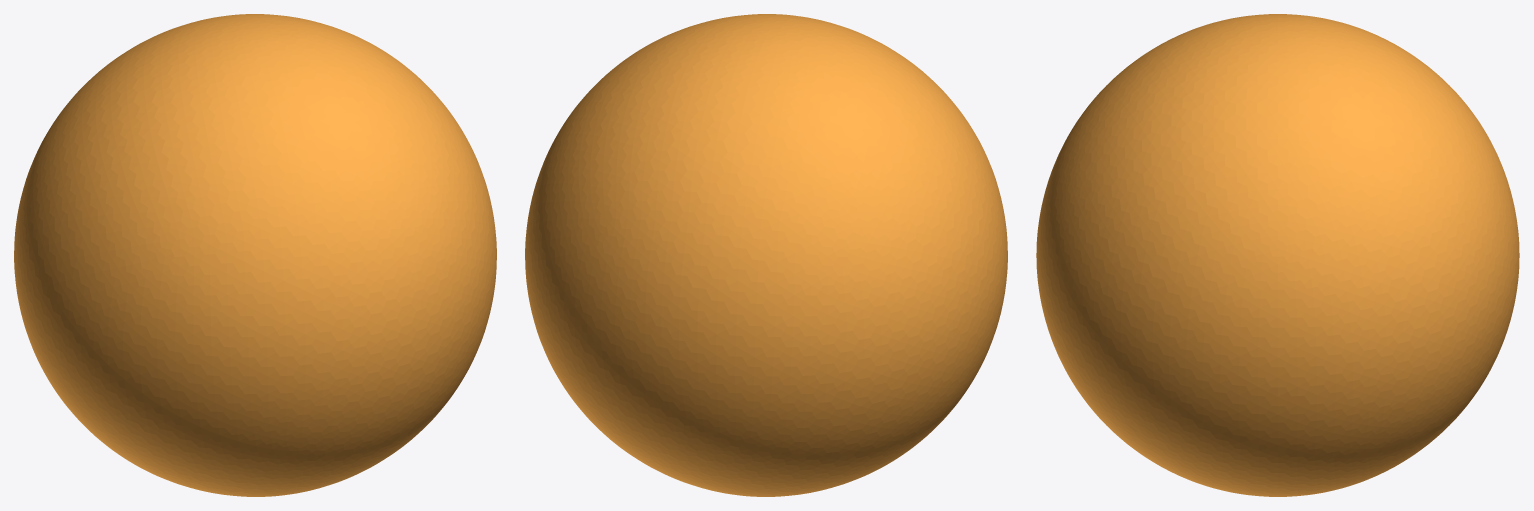
Rendered from the_sun.glb.
3 renders of one model, left to right at view 1: azimuth 30°, elevation 25°; view 2: azimuth 150°, elevation 25°; view 3: azimuth 270°, elevation 25°, orthographic.
Visible parts, largest first — view 1: Icosphere_0; view 2: Icosphere_0; view 3: Icosphere_0.
Part boxes in pixels (x1,y1,x2,y2): Icosphere_0: [14, 14, 496, 496]; Icosphere_0: [525, 14, 1007, 496]; Icosphere_0: [1036, 14, 1519, 496].
Size of the model in its own units: 1.99 by 1.99 by 1.99.
